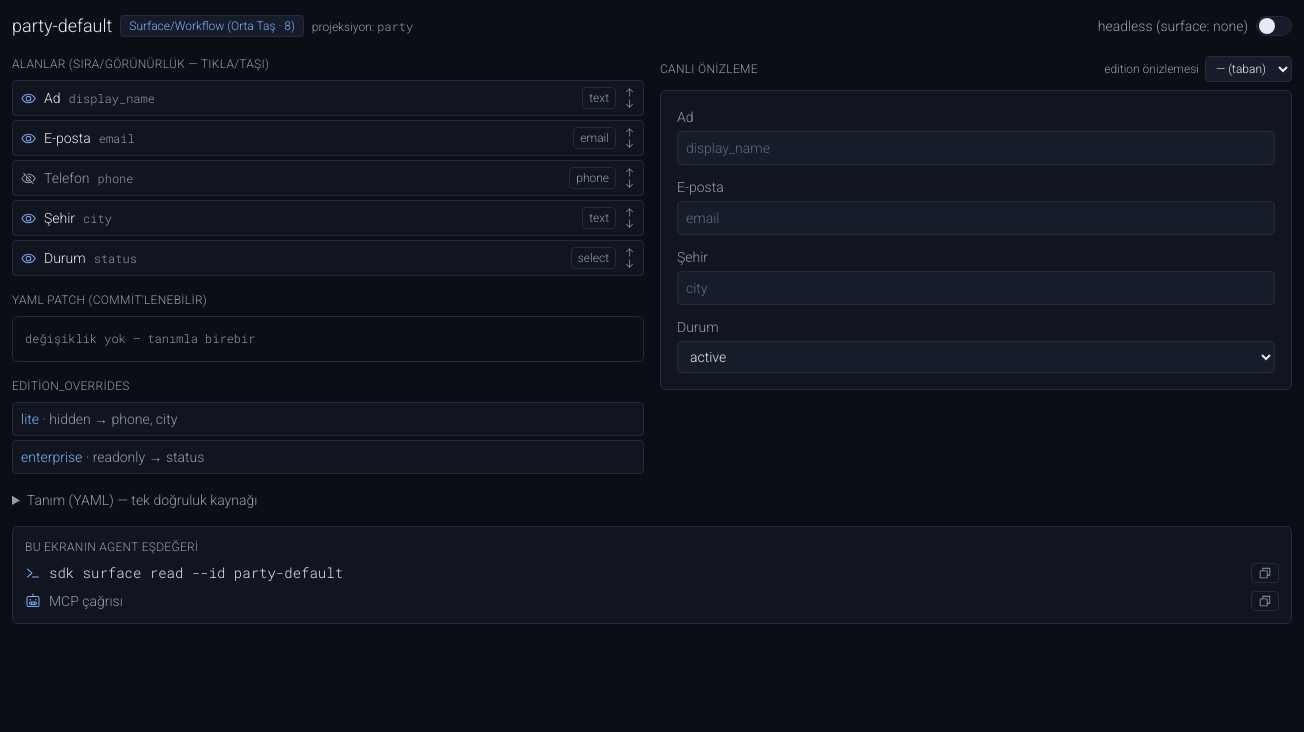
Surface Builder — canlı etkileşim (§4-c) › görünürlük değişimi önizlemeye ve YAML patch'e yansır
Step 1. Click the button named "görünürlük: phone" → (28, 178), box x1=21 y1=170 x2=36 y2=186
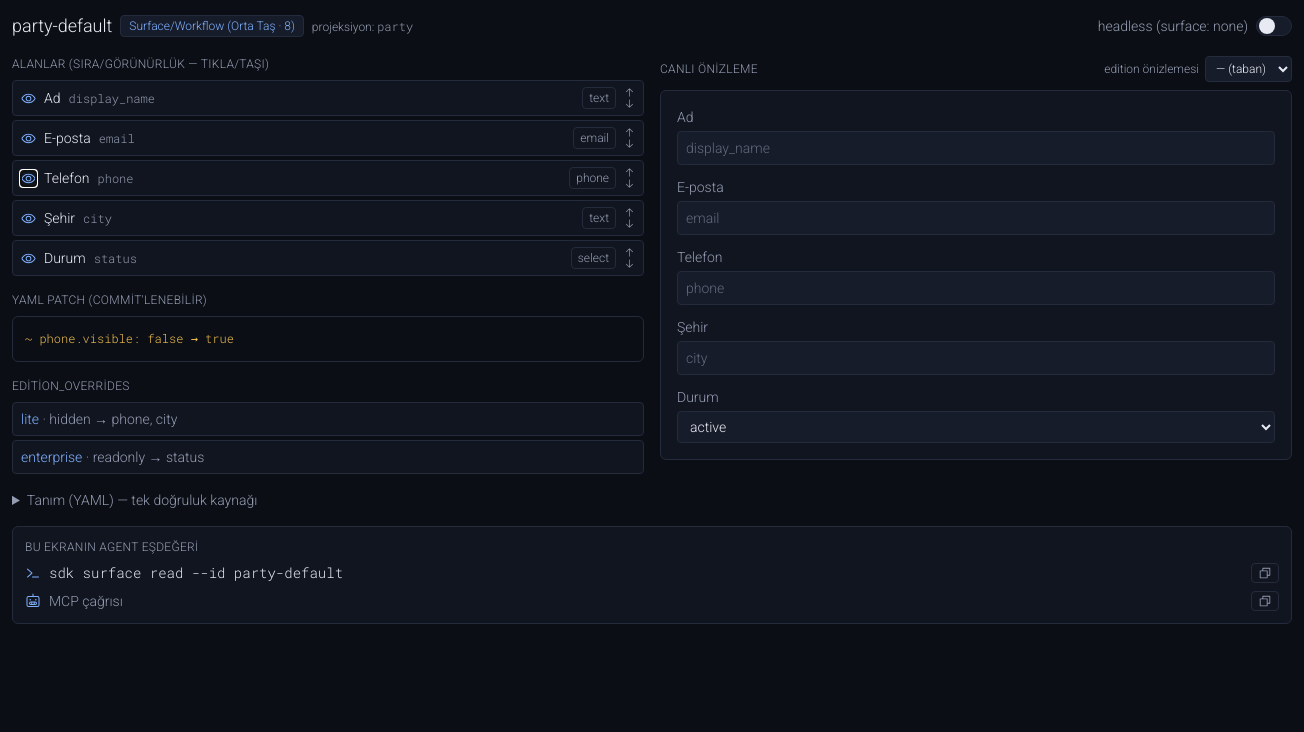
Expected: the text "Telefon" below "Canlı önizleme" is shown, x1=677 y1=249 x2=722 y2=265
Expected: the text "~ phone.visible: false → true" is shown, x1=25 y1=330 x2=234 y2=346
